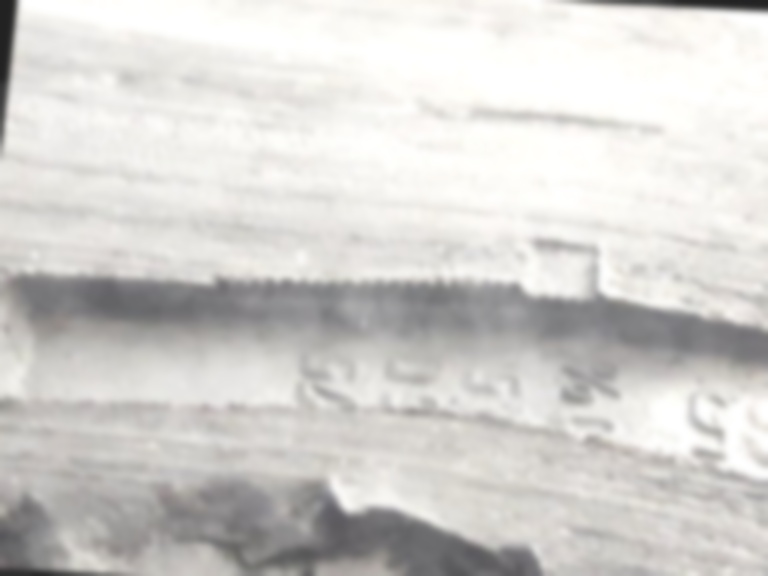temoin:0: (487, 217, 634, 347)
